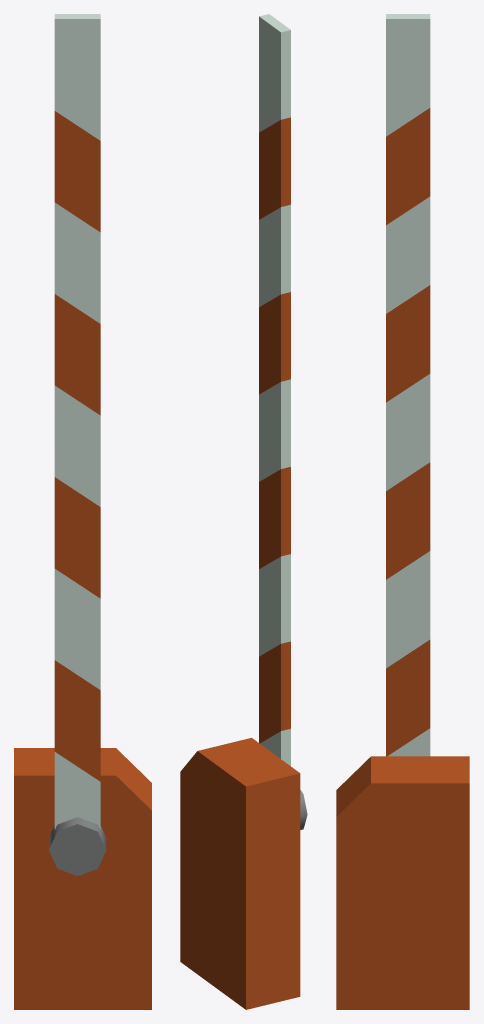
Rendered from ParkingRamp1.fbx.
The picture shows the model from 3 angles, left to right: view 1: azimuth 90°, elevation 25°; view 2: azimuth 210°, elevation 25°; view 3: azimuth 270°, elevation 25°; orthographic projection. The views are drawn at different scales.
Parts seen in each view (by area): view 1: ParkingRampArm, ParkingRampHolder; view 2: ParkingRampHolder, ParkingRampArm; view 3: ParkingRampHolder, ParkingRampArm.
Boxes of the visible parts, x1=… form: ParkingRampArm: x1=49, y1=14, x2=106, y2=876; ParkingRampHolder: x1=14, y1=748, x2=151, y2=1009; ParkingRampHolder: x1=180, y1=737, x2=300, y2=1009; ParkingRampArm: x1=259, y1=14, x2=307, y2=829; ParkingRampHolder: x1=336, y1=756, x2=469, y2=1009; ParkingRampArm: x1=386, y1=14, x2=430, y2=756.
Bounding box in the file's own units: 0.4295 × 4.99 × 0.6257.
